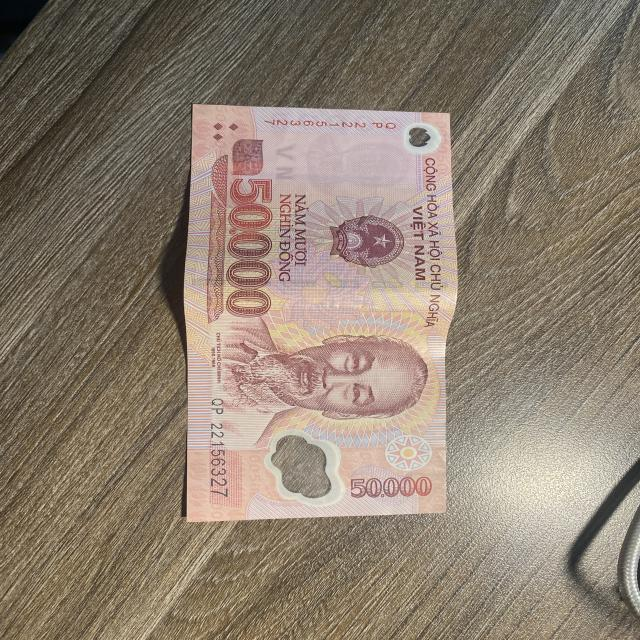50 000 VND: (181, 101, 461, 524)
